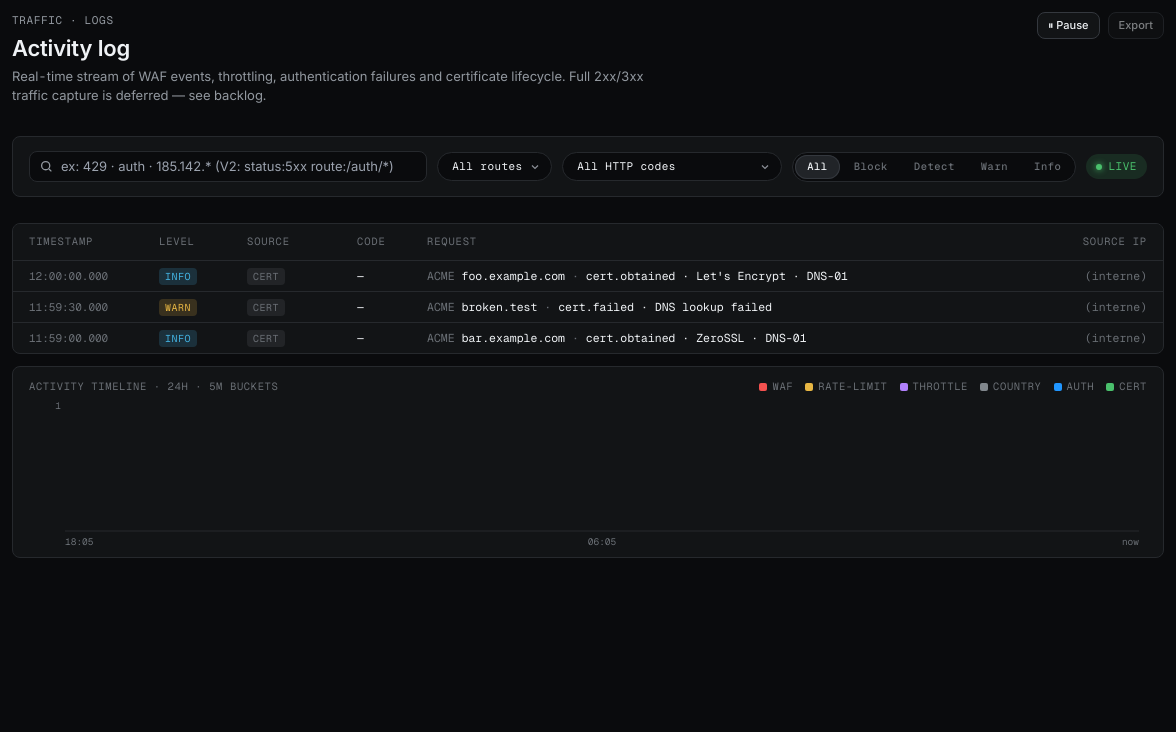
Scenario: /logs — search across cert content › search by domain string filters cert rows by path column
Type "foo.example" into the search field named "Filter events" at (239, 167), box [61,157,416,176]
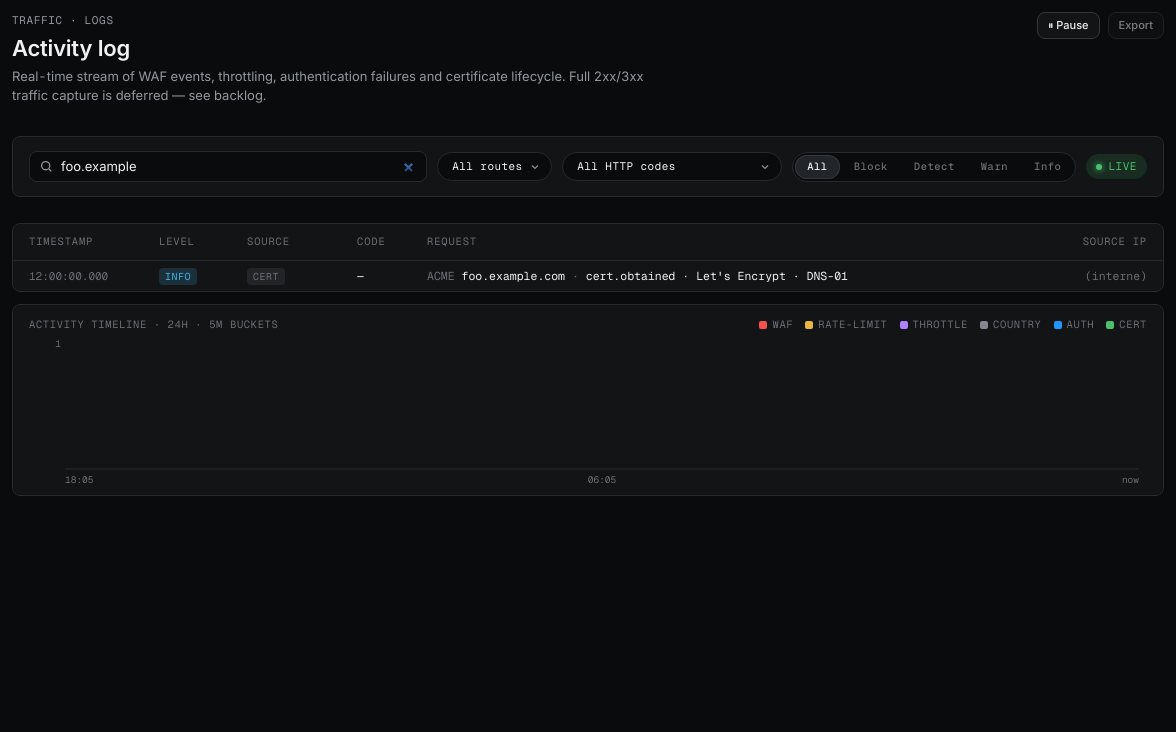
Check: the text "foo.example.com" is shown, box [462,268,565,283]
Check: the text "bar.example.com" is gone
Check: the text "broken.test" is gone
